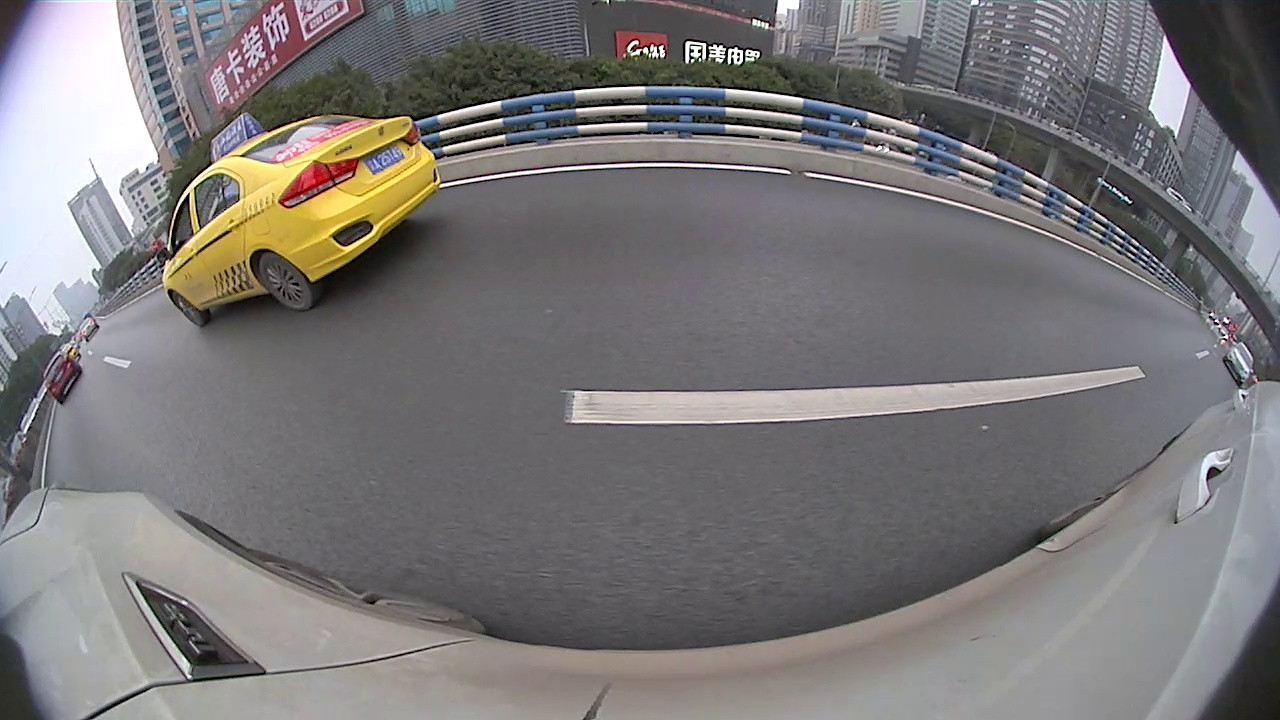bus: (768, 123, 846, 165), (675, 143, 716, 175)
car: (1, 183, 331, 487), (686, 133, 862, 229), (1058, 226, 1171, 305), (485, 154, 558, 204), (555, 157, 587, 187), (609, 155, 639, 184)
front: (233, 255, 314, 347), (688, 178, 701, 204), (1056, 246, 1069, 265)
person: (999, 193, 1011, 241), (1052, 213, 1064, 257), (981, 192, 991, 231)
rear: (1224, 351, 1247, 384), (729, 180, 747, 221), (1123, 278, 1142, 301), (538, 179, 547, 199)
truck: (1216, 279, 1279, 388)
